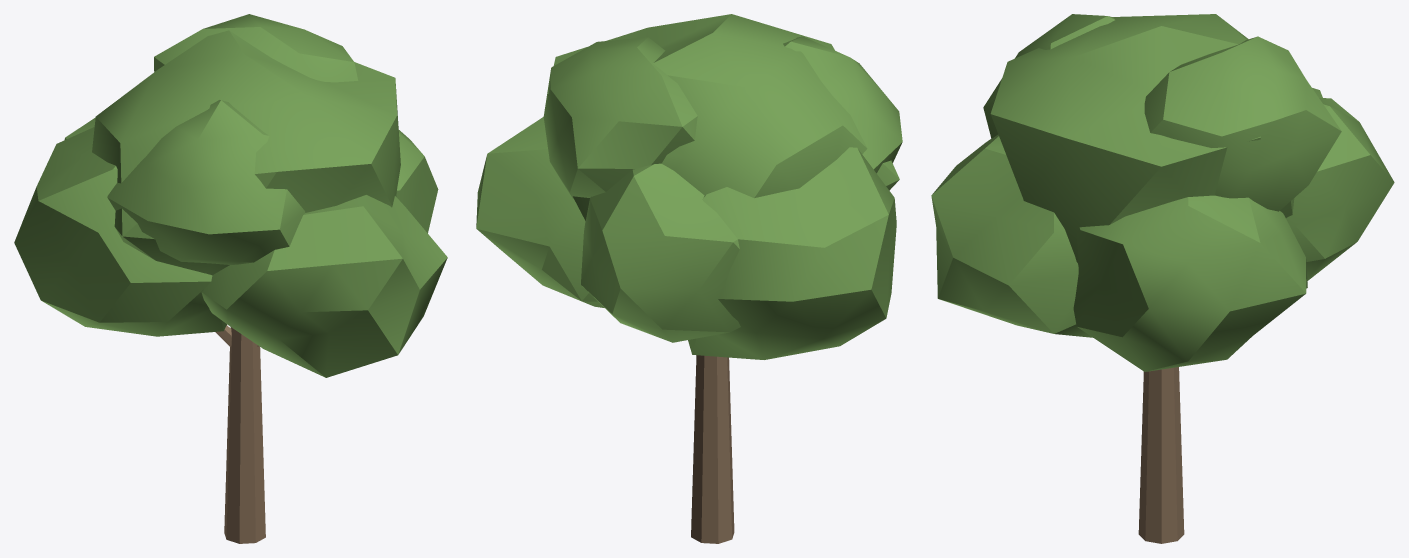
File: tree_broadleaf.glb
3 renders of one model, left to right at view 1: azimuth 30°, elevation 25°; view 2: azimuth 150°, elevation 25°; view 3: azimuth 270°, elevation 25°, orthographic. The views are drawn at different scales.
Visible parts, largest first — view 1: tree_broadleaf; view 2: tree_broadleaf; view 3: tree_broadleaf.
Part boxes in pixels (<box>): tree_broadleaf: <box>14,14,447,543</box>; tree_broadleaf: <box>476,14,902,543</box>; tree_broadleaf: <box>931,14,1394,543</box>.
Bounding box in the file's own units: 6.99 × 8.36 × 6.9.
